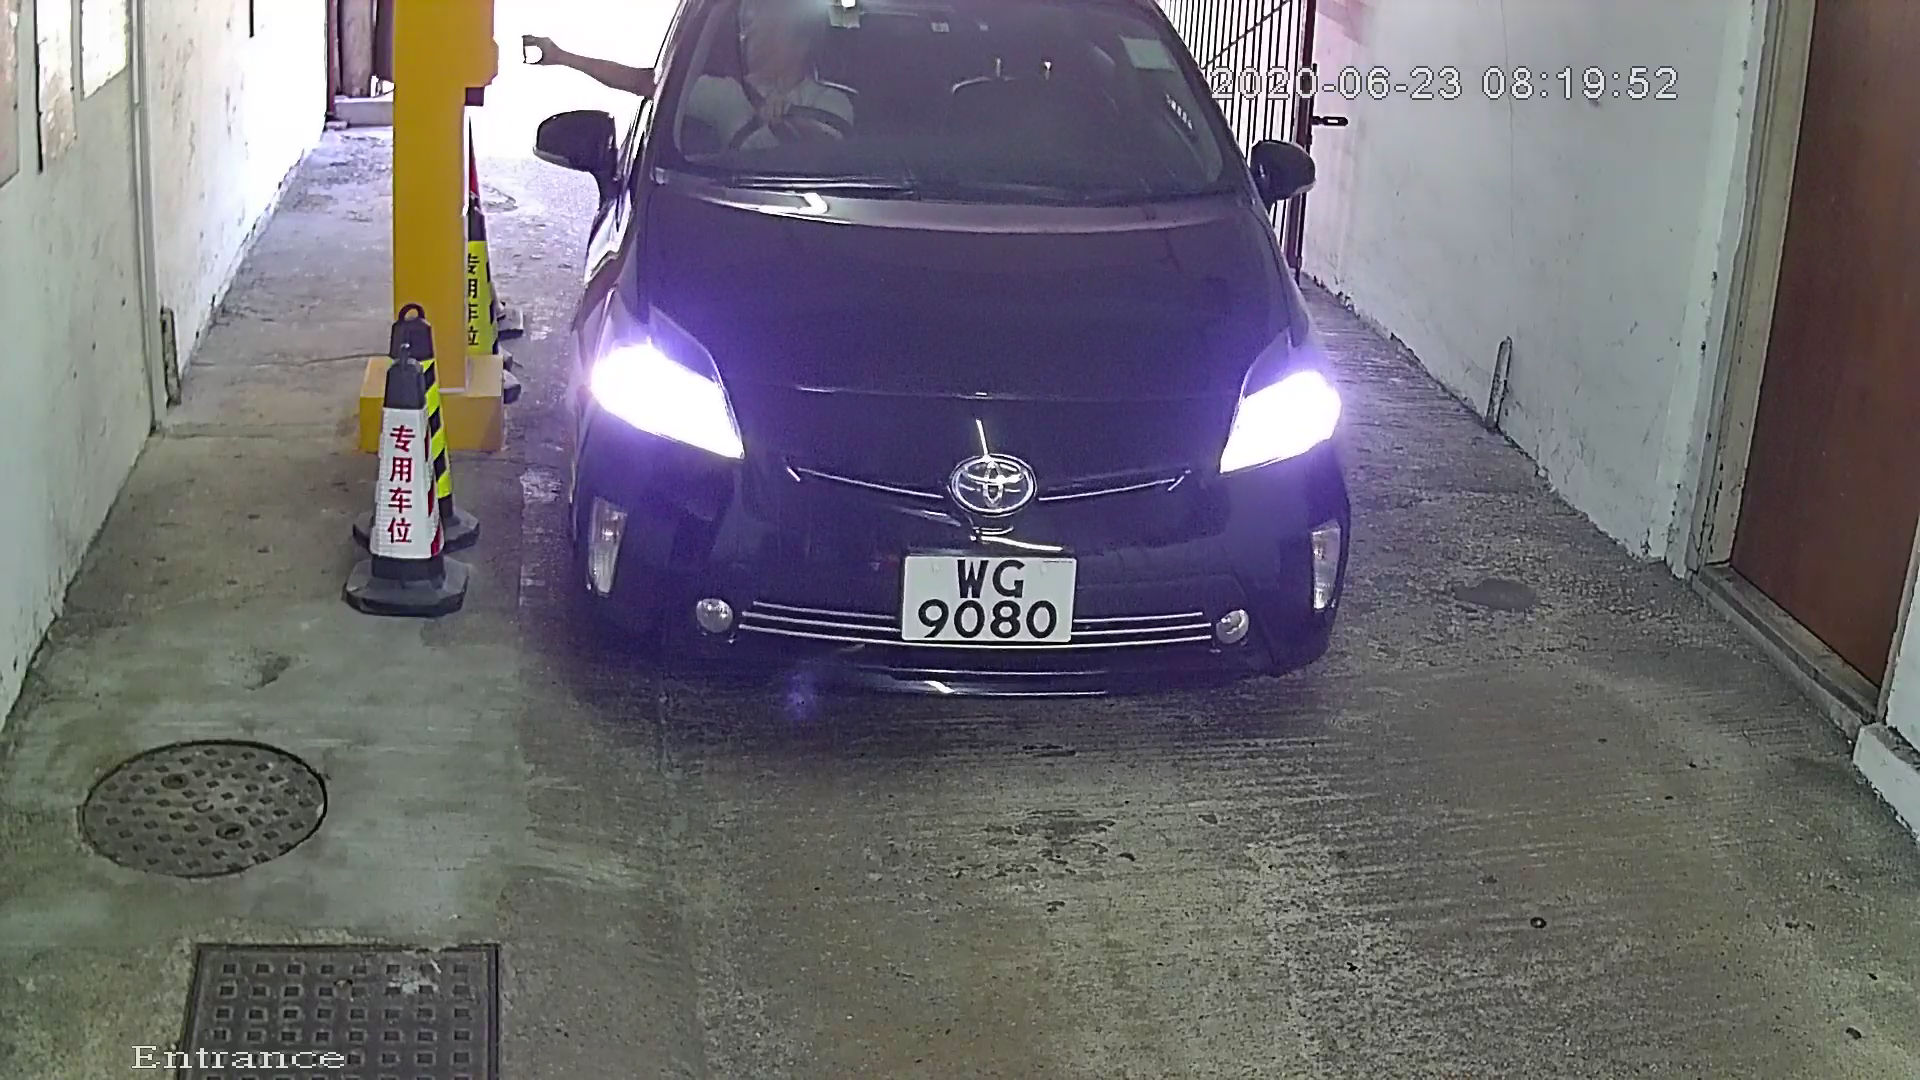privatecar: (491, 1, 1420, 715)
